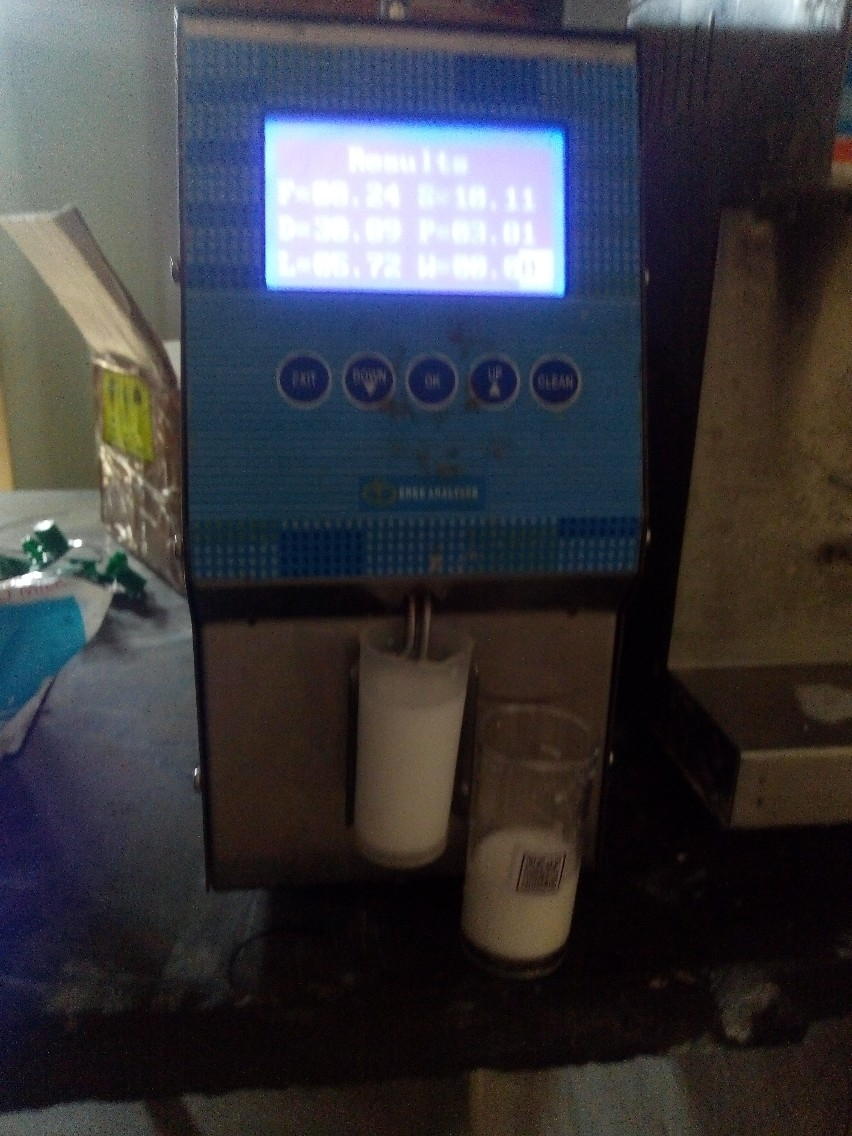lcd: (243, 94, 590, 316)
qr: (500, 845, 588, 909)
